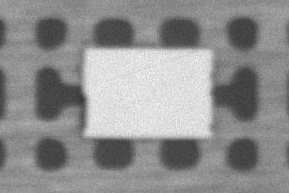DIE_CRACK: (168, 34, 289, 53)
